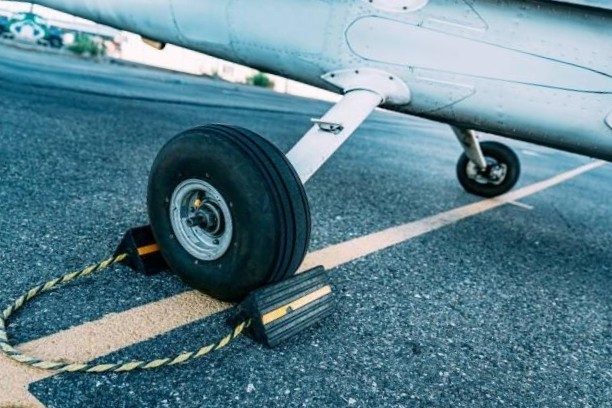chock: (220, 246, 348, 360), (108, 214, 192, 283)
wheel: (126, 110, 330, 316), (452, 132, 529, 204)
